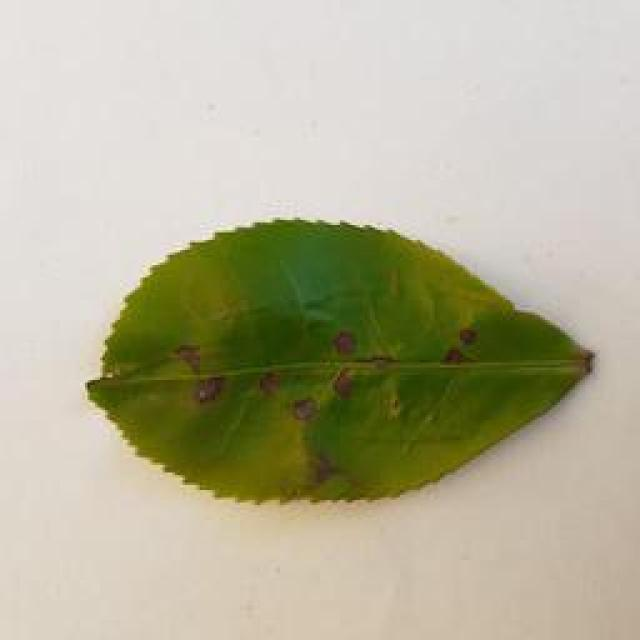Helopeltis: (91, 210, 602, 515)
